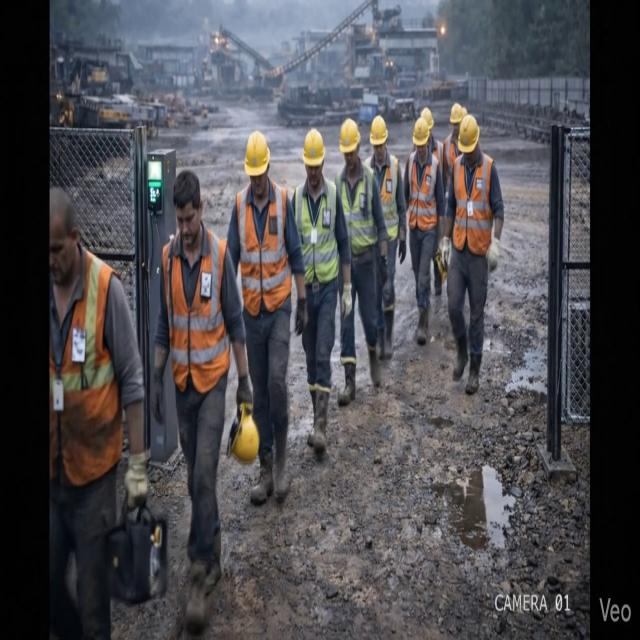Vest: (50, 250, 122, 486), (162, 231, 230, 393), (236, 182, 291, 316), (294, 179, 338, 285), (452, 153, 493, 255), (336, 163, 377, 255), (408, 152, 438, 231), (379, 154, 398, 241)
Worker: (151, 170, 251, 633), (49, 188, 147, 639), (228, 131, 307, 504), (292, 128, 351, 457), (441, 115, 503, 394), (336, 119, 387, 387), (366, 116, 406, 359), (404, 117, 444, 345), (442, 103, 465, 192), (421, 108, 443, 173)
helmet: (227, 404, 259, 463), (245, 131, 269, 176), (458, 114, 479, 152), (303, 128, 324, 166), (340, 119, 360, 153), (370, 116, 387, 145), (413, 117, 429, 146), (421, 108, 434, 131), (450, 103, 463, 124), (462, 106, 467, 117)
